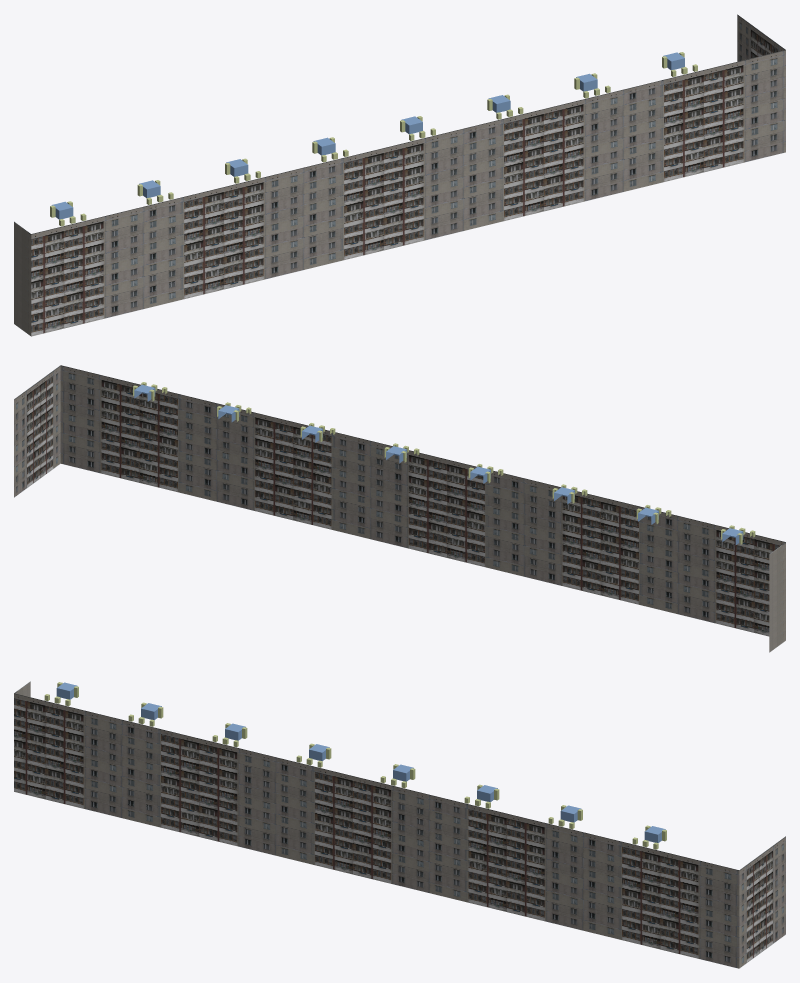
The model's file is house4.dae.
The picture shows the model from 3 angles, top to bottom: view 1: azimuth 30°, elevation 25°; view 2: azimuth 150°, elevation 25°; view 3: azimuth 330°, elevation 25°; orthographic projection. The views are drawn at different scales.
Parts seen in each view (by area): view 1: house2; view 2: house2; view 3: house2.
Part boxes in pixels (bbox=[...]): house2: bbox=[14, 14, 785, 336]; house2: bbox=[14, 365, 785, 652]; house2: bbox=[14, 681, 785, 968].
Size of the model in its own units: 221 by 24.7 by 31.42.
Materials: 4 (2 with a texture image).
